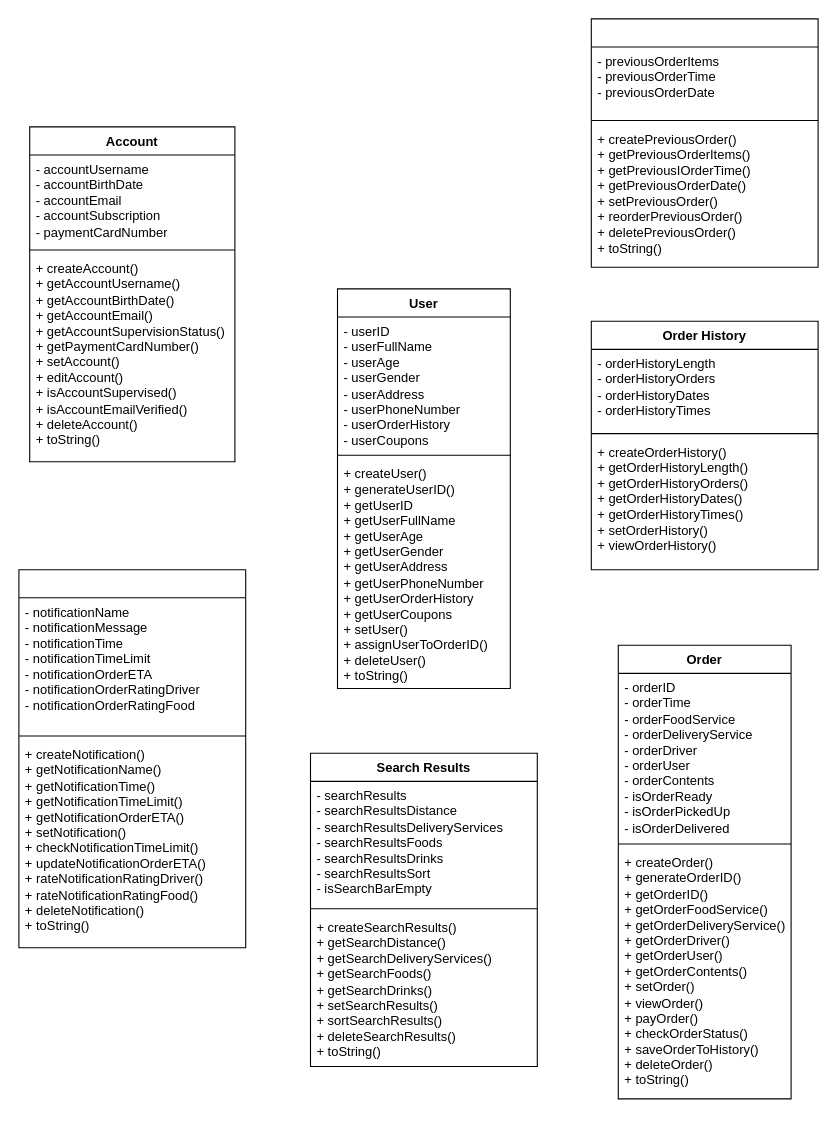
Some shapes in this 837 by 1121 pixel diagram are drawn without their labels. Each missing label, with the box of its shape:
Notifications: (18, 569, 246, 948)
Previous Orders: (590, 18, 818, 267)
